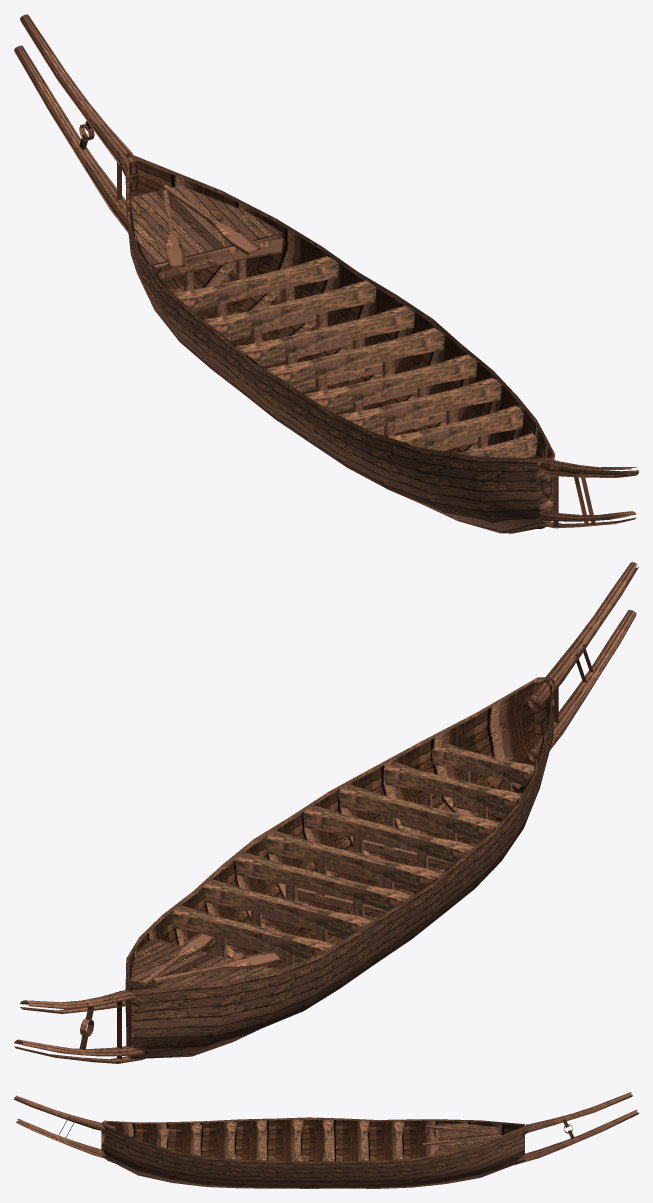
Rendered from germ_boat.dae.
3 views of the same model, one above another, from view 1: azimuth 30°, elevation 25°; view 2: azimuth 150°, elevation 25°; view 3: azimuth 270°, elevation 25° (orthographic). The views are drawn at different scales.
Parts seen in each view (by area): view 1: germ_boat; view 2: germ_boat; view 3: germ_boat.
Boxes of the visible parts, x1,y1,x2,y2 form: germ_boat: (14, 14, 638, 533); germ_boat: (14, 562, 638, 1063); germ_boat: (14, 1092, 638, 1188).
Size of the model in its own units: 5.04 by 29.51 by 4.81.
